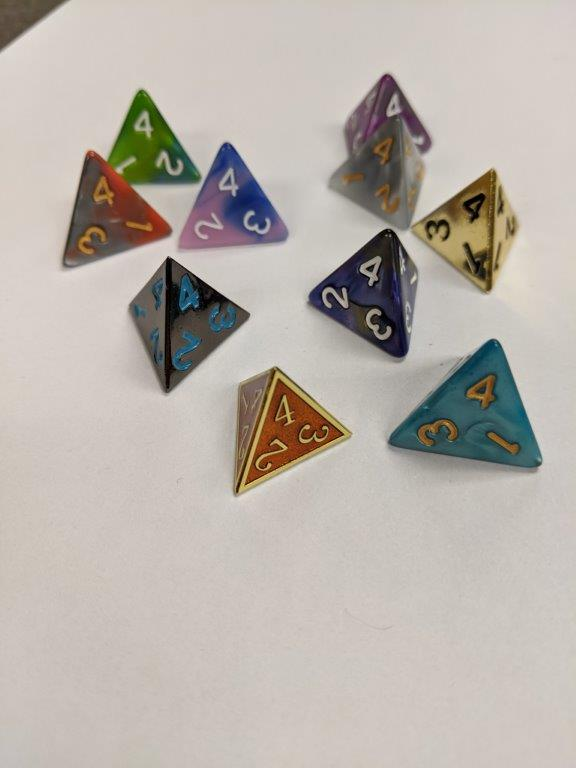d4-4: (387, 336, 542, 475), (123, 258, 251, 390), (235, 367, 359, 498), (306, 225, 423, 363), (415, 166, 521, 292), (62, 149, 174, 267), (174, 140, 290, 250), (322, 121, 424, 225), (104, 86, 205, 186), (347, 72, 436, 160)
